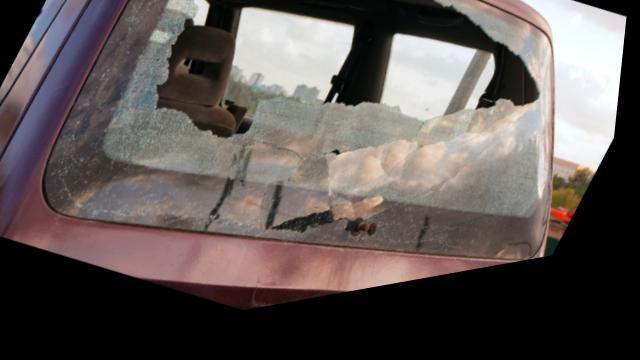glass shatter: (46, 0, 558, 280)
